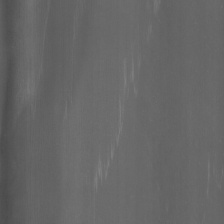silk_spot: (88, 46, 149, 200)
